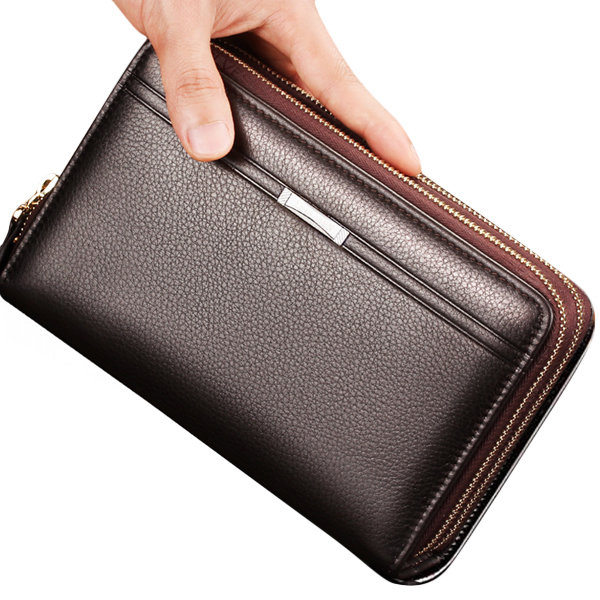monedero: (1, 27, 598, 587)
